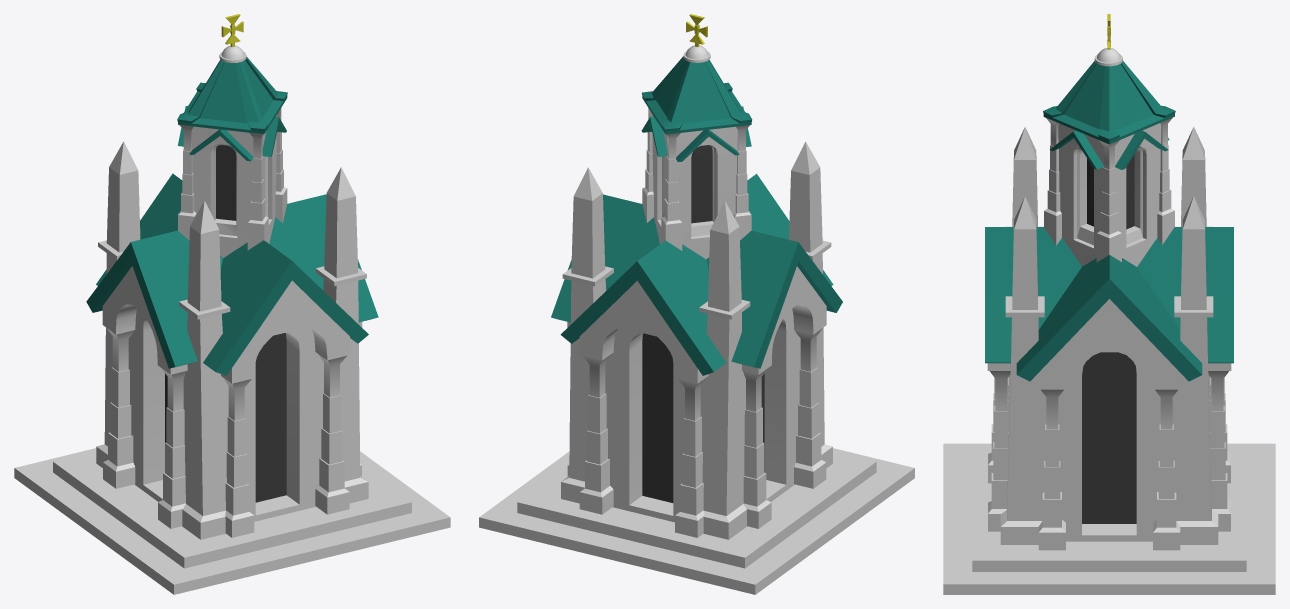
The model's file is cripta.fbx.
3 renders of one model, left to right at view 1: azimuth 30°, elevation 25°; view 2: azimuth 150°, elevation 25°; view 3: azimuth 270°, elevation 25°, orthographic. The views are drawn at different scales.
Parts seen in each view (by area): view 1: colonnine; view 2: colonnine; view 3: colonnine.
Boxes of the visible parts, bbox=[...] form: colonnine: bbox=[14, 14, 450, 594]; colonnine: bbox=[479, 14, 914, 594]; colonnine: bbox=[943, 14, 1275, 594].
Bounding box in the file's own units: 298 × 501 × 298.
